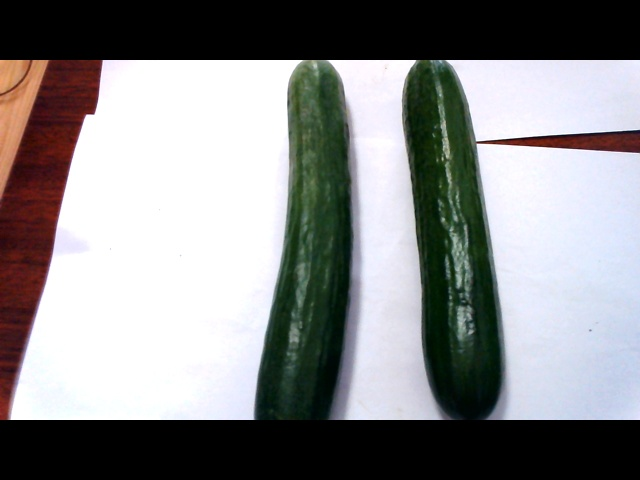cucumber: (399, 61, 506, 418), (251, 60, 355, 419)
